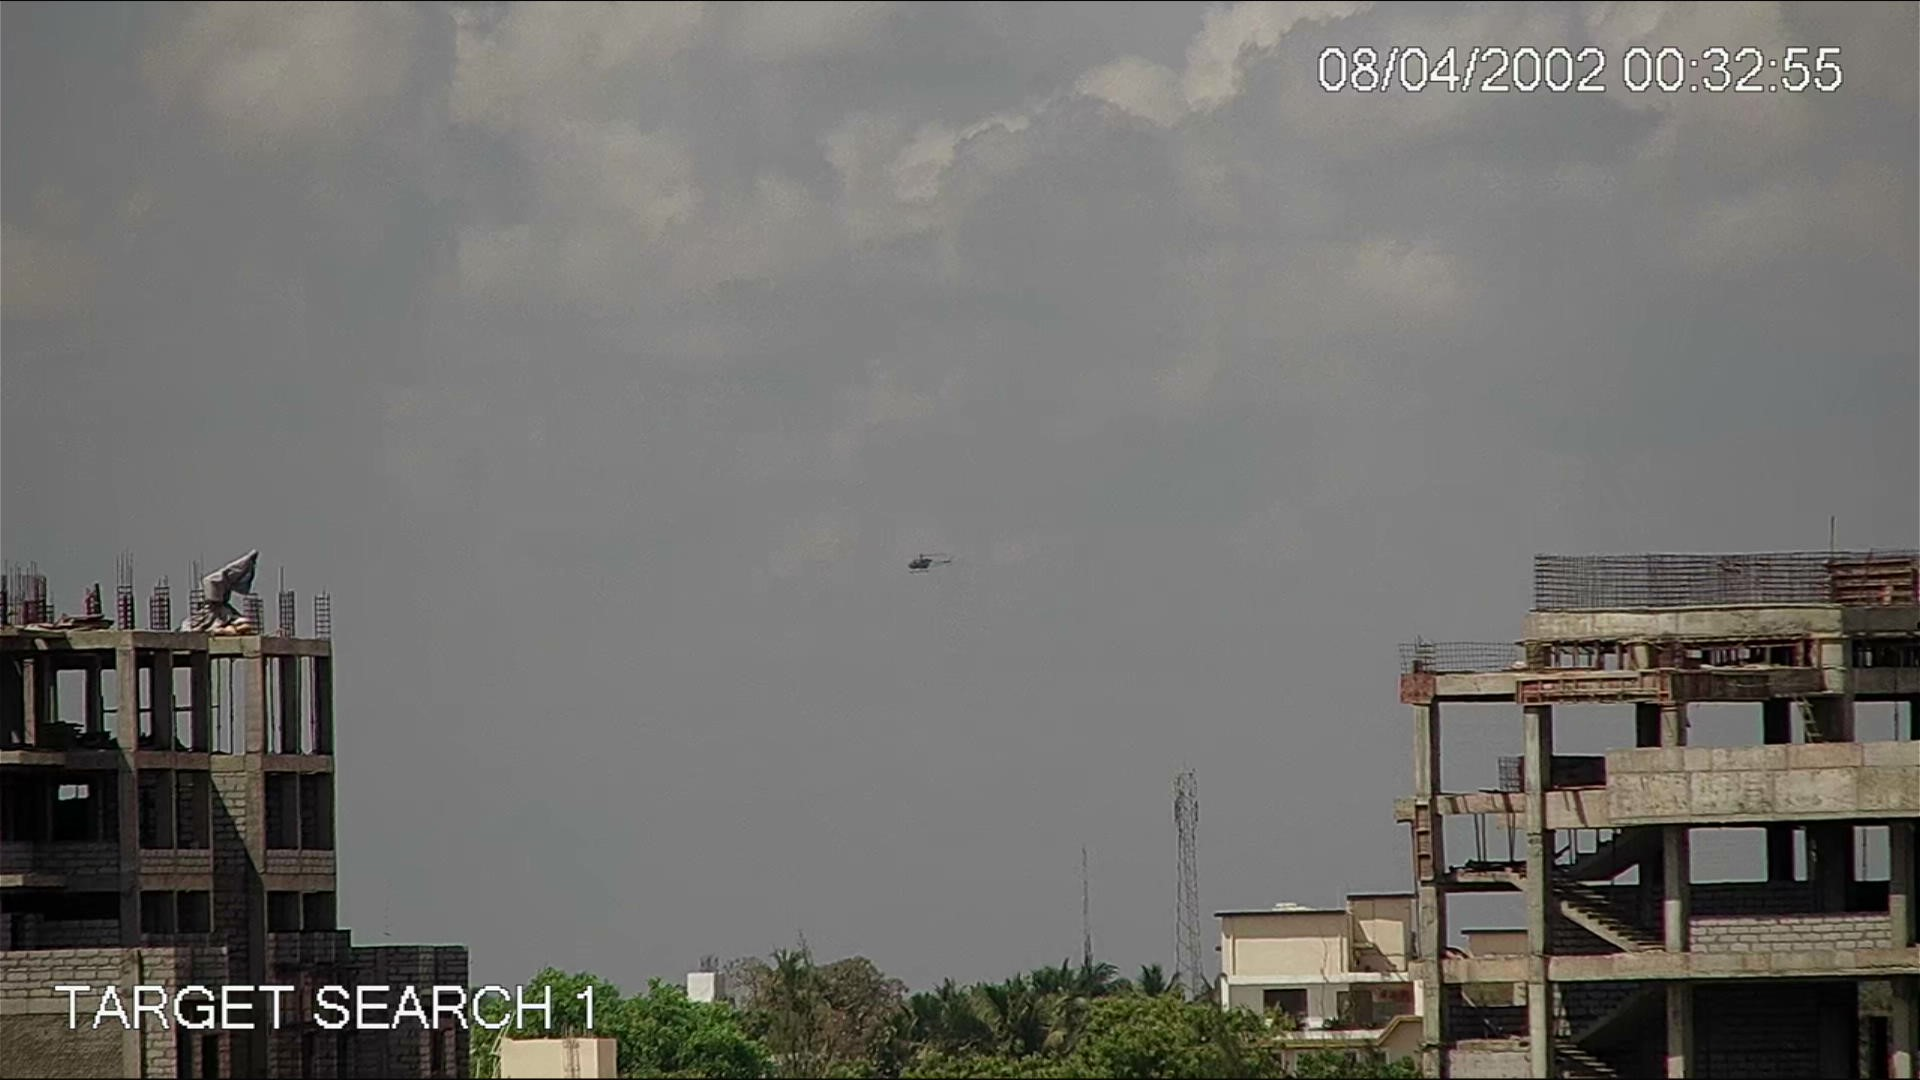SU_30: (905, 550, 959, 578)
